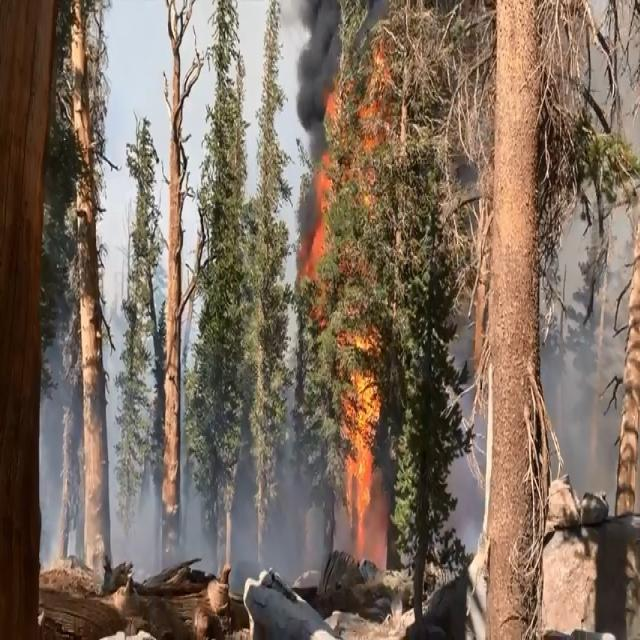Fire: (301, 37, 406, 560)
